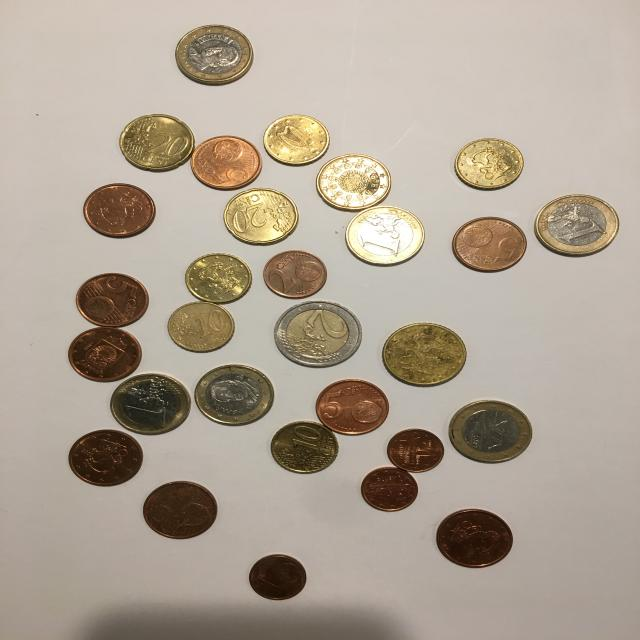10c: (118, 114, 197, 170), (269, 416, 340, 474), (455, 136, 527, 192), (166, 299, 239, 354), (183, 252, 255, 304), (261, 115, 331, 166)
1c: (247, 554, 310, 602), (359, 467, 422, 514), (386, 426, 446, 474)
1e: (532, 192, 622, 260), (447, 398, 534, 463), (343, 202, 427, 268), (108, 374, 196, 436), (173, 23, 257, 85), (194, 364, 277, 426)
20c: (224, 188, 302, 246)
2c: (262, 249, 329, 300)
2e: (270, 300, 367, 369)
50c: (377, 321, 471, 388)
5c: (434, 505, 515, 568), (140, 480, 222, 539), (65, 429, 144, 490), (74, 272, 152, 328), (80, 182, 156, 239), (314, 380, 391, 435), (67, 326, 145, 380), (451, 217, 526, 273), (187, 135, 263, 188)
